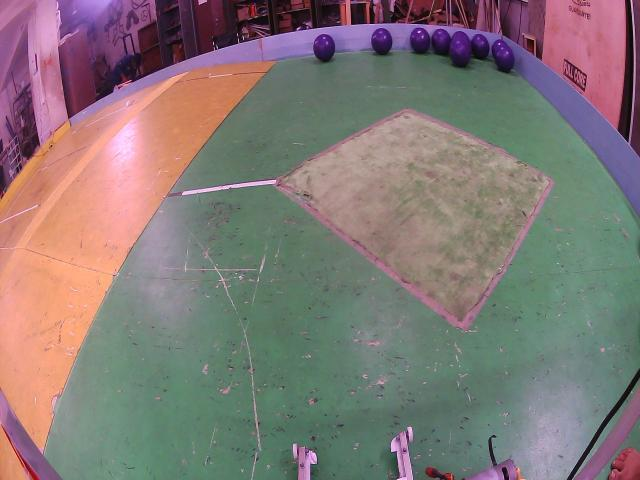jambhalya: (449, 32, 471, 67), (314, 33, 335, 62), (371, 28, 392, 55), (431, 28, 451, 55), (410, 27, 430, 53), (471, 33, 490, 60), (495, 47, 514, 72), (491, 40, 508, 58)
